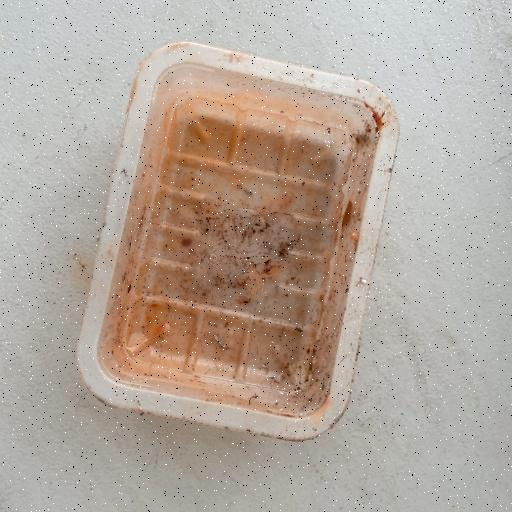Plastic: (76, 42, 400, 442)
